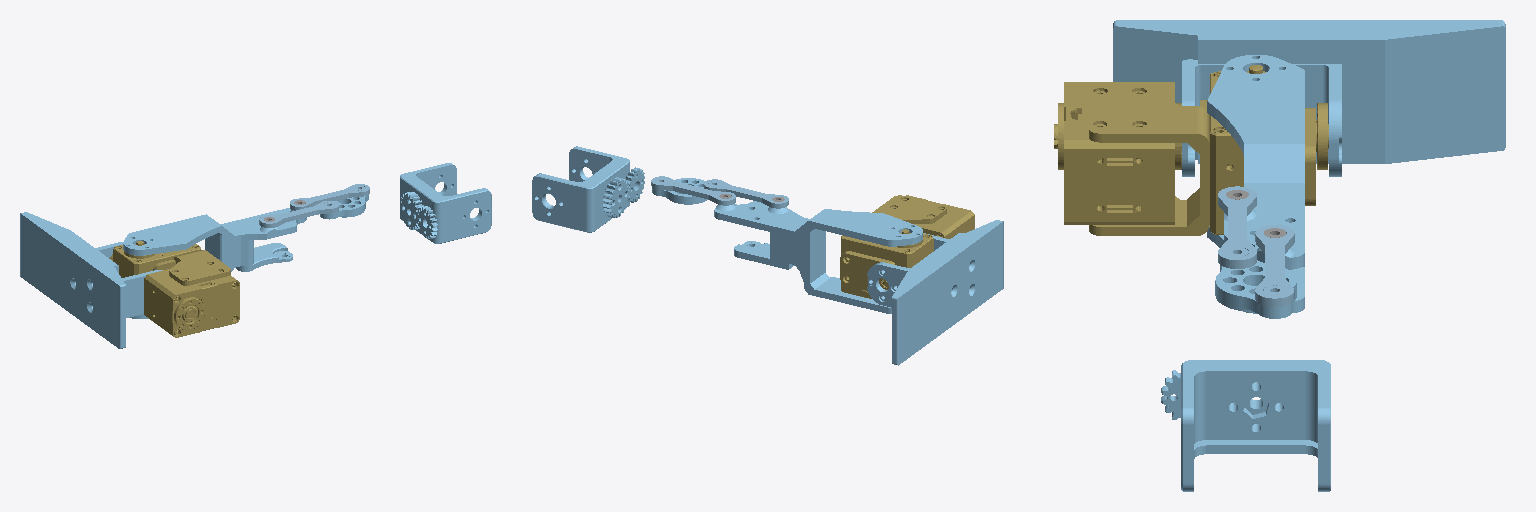
robot.urdf — right_leg_reorder:
<?xml version="1.0" ?><robot name="right_leg_reorder">  
  <link name="2xc430">    
    <visual>      
      <origin xyz="0 0 0" rpy="0 -0 0"/>      
      <geometry>        
        <mesh filename="package:///meshes/right_2xc430_visual.stl"/>        
      </geometry>      
      <material name="2xc430_material">        
        <color rgba="0.51698661238356047321 0.50347815951093488618 0.49050589017722012741 1.0"/>        
      </material>      
    </visual>    
    <collision>      
      <origin xyz="0 0 0" rpy="0 -0 0"/>      
      <geometry>        
        <mesh filename="package:///meshes/right_2xc430_collision.stl"/>        
      </geometry>      
    </collision>    
    <inertial>      
      <origin xyz="-0.0120001511339564923 0.00049588831385626367092 0.01850401924450319896" rpy="0 0 0"/>      
      <mass value="0.11059999999836234164"/>      
      <inertia ixx="2.2818802599017385101e-05" ixy="4.6888548258345894655e-08" ixz="4.6520143289217505514e-08" iyy="3.0871666424467696587e-05" iyz="-5.7477343899723834052e-07" izz="3.0871632082336744173e-05"/>      
    </inertial>    
  </link>  

  <link name="hip_yaw_link">    
    <visual>      
      <origin xyz="0 0 0" rpy="0 -0 0"/>      
      <geometry>        
        <mesh filename="package:///meshes/right_hip_yaw_link_visual.stl"/>        
      </geometry>      
      <material name="hip_yaw_link_material">        
        <color rgba="0.61568627450980395466 0.81176470588235294379 0.92941176470588238168 1.0"/>        
      </material>      
    </visual>    
    <collision>      
      <origin xyz="0 0 0" rpy="0 -0 0"/>      
      <geometry>        
        <mesh filename="package:///meshes/right_hip_yaw_link_collision.stl"/>        
      </geometry>      
    </collision>    
    <inertial>      
      <origin xyz="-6.1483297531456918442e-18 -0.015800610849654273676 -0.019005670096647751116" rpy="0 0 0"/>      
      <mass value="0.013199999999999992989"/>      
      <inertia ixx="5.789461597517412337e-06" ixy="0" ixz="0" iyy="5.0110144042848776317e-06" iyz="1.1826010760651176287e-09" izz="2.7344876354814331659e-06"/>      
    </inertial>    
  </link>  

  <link name="spur_gear_21_teeth">    
    <visual>      
      <origin xyz="0 0 0" rpy="0 -0 0"/>      
      <geometry>        
        <mesh filename="package:///meshes/right_spur_gear_21_teeth_visual.stl"/>        
      </geometry>      
      <material name="spur_gear_21_teeth_material">        
        <color rgba="0.61568627450980395466 0.81176470588235294379 0.9294117647058824927 1.0"/>        
      </material>      
    </visual>    
    <collision>      
      <origin xyz="0 0 0" rpy="0 -0 0"/>      
      <geometry>        
        <mesh filename="package:///meshes/right_spur_gear_21_teeth_collision.stl"/>        
      </geometry>      
    </collision>    
    <inertial>      
      <origin xyz="-4.5505289335411606329e-11 -1.6782167131337769527e-11 -0.00249241020062506086" rpy="0 0 0"/>      
      <mass value="0.0022000000000000001325"/>      
      <inertia ixx="7.0162310059594196881e-08" ixy="-8.6481724095232400255e-40" ixz="5.9015579823613624977e-39" iyy="7.016231005804746178e-08" iyz="-2.0034010754136097062e-38" izz="1.3125544198538289306e-07"/>      
    </inertial>    
  </link>  

  <link name="right_hip_pitch_link">    
    <visual>      
      <origin xyz="0 0 0" rpy="0 -0 0"/>      
      <geometry>        
        <mesh filename="package:///meshes/right_hip_pitch_link_visual.stl"/>        
      </geometry>      
      <material name="right_hip_pitch_link_material">        
        <color rgba="0.81231119922470307326 0.7131158892107314351 0.33680089849959421455 1.0"/>        
      </material>      
    </visual>    
    <collision>      
      <origin xyz="0 0 0" rpy="0 -0 0"/>      
      <geometry>        
        <mesh filename="package:///meshes/right_hip_pitch_link_collision.stl"/>        
      </geometry>      
    </collision>    
    <inertial>      
      <origin xyz="0.010187905578010790844 -0.0056188467228509330134 0.038815928333491456215" rpy="0 0 0"/>      
      <mass value="0.14548965119785964295"/>      
      <inertia ixx="7.094204959486465924e-05" ixy="1.1158758975158450794e-06" ixz="7.6515558781284838565e-06" iyy="8.5157398802913054328e-05" iyz="1.0699337399071725082e-06" izz="4.0945306935231742525e-05"/>      
    </inertial>    
  </link>  

  <link name="spur_gear_18_teeth">    
    <visual>      
      <origin xyz="0 0 0" rpy="0 -0 0"/>      
      <geometry>        
        <mesh filename="package:///meshes/right_spur_gear_18_teeth_visual.stl"/>        
      </geometry>      
      <material name="spur_gear_18_teeth_material">        
        <color rgba="0.61568627450980395466 0.81176470588235294379 0.92941176470588238168 1.0"/>        
      </material>      
    </visual>    
    <collision>      
      <origin xyz="0 0 0" rpy="0 -0 0"/>      
      <geometry>        
        <mesh filename="package:///meshes/right_spur_gear_18_teeth_collision.stl"/>        
      </geometry>      
    </collision>    
    <inertial>      
      <origin xyz="-1.2350917852414122165e-14 -3.7635296765399104409e-13 0.0017500000000010207044" rpy="0 0 0"/>      
      <mass value="0.0011999999999999998949"/>      
      <inertia ixx="2.936789981067607588e-08" ixy="0" ixz="1.8125485473072847388e-36" iyy="2.9367899814783318789e-08" iyz="0" izz="5.6306346207859581581e-08"/>      
    </inertial>    
  </link>  

  <joint name="right_hip_yaw_drive" type="revolute">    
    <origin xyz="0.019200000000000595063 0.00019999999999990858424 -3.9919456629178284857e-14" rpy="-3.1415926535897487071 -3.3583610398554125797e-13 4.6072104872475000824e-13"/>    
    <parent link="right_hip_pitch_link"/>    
    <child link="spur_gear_18_teeth"/>    
    <axis xyz="0 0 1"/>    
    <limit effort="1" velocity="20" lower="-1.8325957145940461324" upper="1.8325957145940461324"/>    
    <joint_properties friction="0.0"/>    
  </joint>  

  <link name="right_calf_link">    
    <visual>      
      <origin xyz="0 0 0" rpy="0 -0 0"/>      
      <geometry>        
        <mesh filename="package:///meshes/right_calf_link_visual.stl"/>        
      </geometry>      
      <material name="right_calf_link_material">        
        <color rgba="0.61568627450980395466 0.81176470588235294379 0.92941176470588238168 1.0"/>        
      </material>      
    </visual>    
    <collision>      
      <origin xyz="0 0 0" rpy="0 -0 0"/>      
      <geometry>        
        <mesh filename="package:///meshes/right_calf_link_collision.stl"/>        
      </geometry>      
    </collision>    
    <inertial>      
      <origin xyz="-0.0043450054394400753482 -0.04075298216475804064 0.008711609351475196536" rpy="0 0 0"/>      
      <mass value="0.030999999999999992839"/>      
      <inertia ixx="3.3069388685437999941e-05" ixy="1.3783307152006436104e-06" ixz="-1.2742534017151547024e-07" iyy="7.7316525337494561228e-06" iyz="7.3356500737960487294e-08" izz="2.8031377754212211627e-05"/>      
    </inertial>    
  </link>  

  <link name="bearing_683">    
    <visual>      
      <origin xyz="0 0 0" rpy="0 -0 0"/>      
      <geometry>        
        <mesh filename="package:///meshes/right_bearing_683_visual.stl"/>        
      </geometry>      
      <material name="bearing_683_material">        
        <color rgba="0.64705882352941179736 0.64705882352941179736 0.64705882352941179736 1.0"/>        
      </material>      
    </visual>    
    <collision>      
      <origin xyz="0 0 0" rpy="0 -0 0"/>      
      <geometry>        
        <mesh filename="package:///meshes/right_bearing_683_collision.stl"/>        
      </geometry>      
    </collision>    
    <inertial>      
      <origin xyz="2.7862896558581290791e-17 -2.4186774283160221397e-19 -0.0015500000000000003792" rpy="0 0 0"/>      
      <mass value="0.00048694686130641793437"/>      
      <inertia ixx="2.1551456503319887385e-09" ixy="4.2598306438204978266e-28" ixz="-7.3234829304002240204e-39" iyy="2.1551456503319874977e-09" iyz="-2.4060933654183729714e-40" izz="3.5303647444715305817e-09"/>      
    </inertial>    
  </link>  

  <joint name="right_knee_front_rev_2" type="revolute">    
    <origin xyz="0.0057402514854766849284 -0.013858192987668827012 0.02619999999999997331" rpy="3.1415926535897904515 1.1270393647317458615e-14 1.5719696003976120213"/>    
    <parent link="right_calf_link"/>    
    <child link="bearing_683"/>    
    <axis xyz="0 0 1"/>    
    <limit effort="1" velocity="20"/>    
    <joint_properties friction="0.0"/>    
  </joint>  

  <link name="bearing_683_2">    
    <visual>      
      <origin xyz="0 0 0" rpy="0 -0 0"/>      
      <geometry>        
        <mesh filename="package:///meshes/right_bearing_683_2_visual.stl"/>        
      </geometry>      
      <material name="bearing_683_2_material">        
        <color rgba="0.64705882352941179736 0.64705882352941179736 0.64705882352941179736 1.0"/>        
      </material>      
    </visual>    
    <collision>      
      <origin xyz="0 0 0" rpy="0 -0 0"/>      
      <geometry>        
        <mesh filename="package:///meshes/right_bearing_683_2_collision.stl"/>        
      </geometry>      
    </collision>    
    <inertial>      
      <origin xyz="1.0732094295237784574e-19 -2.4186774283160235841e-19 -0.0015500000000000003792" rpy="0 0 0"/>      
      <mass value="0.00048694686130641793437"/>      
      <inertia ixx="2.1551456503319887385e-09" ixy="-1.1494962908747497034e-28" ixz="2.265476119271587224e-39" iyy="2.1551456503319891521e-09" iyz="1.489597402795983312e-40" izz="3.5303647444715305817e-09"/>      
    </inertial>    
  </link>  

  <joint name="right_knee_back_rev_2" type="revolute">    
    <origin xyz="-0.0057402514854761627766 0.013858192987670853169 0.026199999999999959432" rpy="3.1415926535897886751 4.04667926947700006e-15 1.5695900538857272544"/>    
    <parent link="right_calf_link"/>    
    <child link="bearing_683_2"/>    
    <axis xyz="0 0 1"/>    
    <limit effort="1" velocity="20"/>    
    <joint_properties friction="0.0"/>    
  </joint>  

  <link name="right_ank_pitch_link">    
    <visual>      
      <origin xyz="0 0 0" rpy="0 -0 0"/>      
      <geometry>        
        <mesh filename="package:///meshes/right_ank_pitch_link_visual.stl"/>        
      </geometry>      
      <material name="right_ank_pitch_link_material">        
        <color rgba="0.70321688500203349825 0.64514870846184457776 0.40484735422826251261 1.0"/>        
      </material>      
    </visual>    
    <collision>      
      <origin xyz="0 0 0" rpy="0 -0 0"/>      
      <geometry>        
        <mesh filename="package:///meshes/right_ank_pitch_link_collision.stl"/>        
      </geometry>      
    </collision>    
    <inertial>      
      <origin xyz="-0.01777024188954268516 0.012301334508572285553 0.018814514831173675957" rpy="0 0 0"/>      
      <mass value="0.1767637669506791076"/>      
      <inertia ixx="4.7283381546857748841e-05" ixy="1.3380598207244262923e-06" ixz="6.1532628607417077641e-07" iyy="0.00010706462535917217807" iyz="-5.1080086246370357937e-08" izz="0.00012185522398303814907"/>      
    </inertial>    
  </link>  

  <link name="ank_roll_link">    
    <visual>      
      <origin xyz="0 0 0" rpy="0 -0 0"/>      
      <geometry>        
        <mesh filename="package:///meshes/right_ank_roll_link_visual.stl"/>        
      </geometry>      
      <material name="ank_roll_link_material">        
        <color rgba="0.61568627450980384364 0.81176470588235283277 0.92941176470588227065 1.0"/>        
      </material>      
    </visual>    
    <collision>      
      <origin xyz="0 0 0" rpy="0 -0 0"/>      
      <geometry>        
        <mesh filename="package:///meshes/right_ank_roll_link_collision.stl"/>        
      </geometry>      
    </collision>    
    <inertial>      
      <origin xyz="-0.02700306651682201492 -2.005733932976729254e-12 0.033764011359896435593" rpy="0 0 0"/>      
      <mass value="0.042600000000000012856"/>      
      <inertia ixx="3.7284397827464680426e-05" ixy="-5.517453075479433163e-16" ixz="2.392918376808064086e-06" iyy="3.7589276943350409207e-05" iyz="5.0934854972587995505e-12" izz="1.0090430906786784418e-05"/>      
    </inertial>    
  </link>  

  <joint name="right_ank_roll" type="revolute">    
    <origin xyz="-0.022749999999990291877 -2.9976021664879226591e-15 0.018999999999999558908" rpy="1.570796326794811959 9.5680781580564777459e-14 1.5707963267948310548"/>    
    <parent link="right_ank_pitch_link"/>    
    <child link="ank_roll_link"/>    
    <axis xyz="0 0 1"/>    
    <limit effort="1" velocity="20" lower="-1.570796326794896558" upper="1.570796326794896558"/>    
    <joint_properties friction="0.0"/>    
  </joint>  

  <joint name="right_ank_pitch" type="revolute">    
    <origin xyz="7.9282998314407210272e-17 -0.10000000000000278111 0.027750000000000038525" rpy="-3.1415926535897851224 8.8042386588788376547e-15 3.1415926535897575889"/>    
    <parent link="right_calf_link"/>    
    <child link="right_ank_pitch_link"/>    
    <axis xyz="0 0 1"/>    
    <limit effort="1" velocity="20" lower="-0.785398163397448279" upper="1.7453292519943295336"/>    
    <joint_properties friction="0.0"/>    
  </joint>  

  <joint name="right_knee" type="revolute">    
    <origin xyz="4.491391864188864284e-17 -0.0087500000000000043021 0.085950000000000248424" rpy="-1.570796326794896558 -5.5569291725623875623e-17 -4.1442543841061995334e-15"/>    
    <parent link="right_hip_pitch_link"/>    
    <child link="right_calf_link"/>    
    <axis xyz="0 0 1"/>    
    <limit effort="1" velocity="20" lower="0" upper="2.0943951023931952626"/>    
    <joint_properties friction="0.0"/>    
  </joint>  

  <link name="xm430_plate">    
    <visual>      
      <origin xyz="0 0 0" rpy="0 -0 0"/>      
      <geometry>        
        <mesh filename="package:///meshes/right_xm430_plate_visual.stl"/>        
      </geometry>      
      <material name="xm430_plate_material">        
        <color rgba="0.61568627450980395466 0.81176470588235294379 0.92941176470588227065 1.0"/>        
      </material>      
    </visual>    
    <collision>      
      <origin xyz="0 0 0" rpy="0 -0 0"/>      
      <geometry>        
        <mesh filename="package:///meshes/right_xm430_plate_collision.stl"/>        
      </geometry>      
    </collision>    
    <inertial>      
      <origin xyz="-9.7261304206861773257e-19 -2.9625680639399983914e-18 0.0025278513919583817798" rpy="0 0 0"/>      
      <mass value="0.0026999999999999997093"/>      
      <inertia ixx="2.4635091298412534083e-07" ixy="5.8739562556303546978e-08" ixz="1.6488528924539488391e-38" iyy="1.2887178787151819394e-07" iyz="-4.7671642829899821838e-37" izz="3.6467998413810316538e-07"/>      
    </inertial>    
  </link>  

  <link name="knee_rod">    
    <visual>      
      <origin xyz="0 0 0" rpy="0 -0 0"/>      
      <geometry>        
        <mesh filename="package:///meshes/right_knee_rod_visual.stl"/>        
      </geometry>      
      <material name="knee_rod_material">        
        <color rgba="0.62051618944235198416 0.78640765248647581664 0.88594253031295011613 1.0"/>        
      </material>      
    </visual>    
    <collision>      
      <origin xyz="0 0 0" rpy="0 -0 0"/>      
      <geometry>        
        <mesh filename="package:///meshes/right_knee_rod_collision.stl"/>        
      </geometry>      
    </collision>    
    <inertial>      
      <origin xyz="0.017534288777882725552 4.1145083530046676085e-05 -0.0015987301647632601396" rpy="0 0 0"/>      
      <mass value="0.003162946861306418795"/>      
      <inertia ixx="2.422520350903731932e-08" ixy="-4.1523452929273176848e-10" ixz="4.9178286424076687208e-10" iyy="8.1758850361951706548e-07" iyz="1.1539930294877956541e-12" izz="8.3704922659328214469e-07"/>      
    </inertial>    
  </link>  

  <joint name="right_knee_front_rev_1" type="revolute">    
    <origin xyz="0.0057402514854763518615 -0.013858192987669298857 0.0050000000000000044409" rpy="3.1415926535897922278 -2.0205656421608262662e-14 -1.5696230531921844253"/>    
    <parent link="xm430_plate"/>    
    <child link="knee_rod"/>    
    <axis xyz="0 0 1"/>    
    <limit effort="1" velocity="20"/>    
    <joint_properties friction="0.0"/>    
  </joint>  

  <link name="knee_rod_2">    
    <visual>      
      <origin xyz="0 0 0" rpy="0 -0 0"/>      
      <geometry>        
        <mesh filename="package:///meshes/right_knee_rod_2_visual.stl"/>        
      </geometry>      
      <material name="knee_rod_2_material">        
        <color rgba="0.62051618944235198416 0.78640765248647581664 0.88594253031295011613 1.0"/>        
      </material>      
    </visual>    
    <collision>      
      <origin xyz="0 0 0" rpy="0 -0 0"/>      
      <geometry>        
        <mesh filename="package:///meshes/right_knee_rod_2_collision.stl"/>        
      </geometry>      
    </collision>    
    <inertial>      
      <origin xyz="0.017534287401028952197 -4.230232304207548694e-05 -0.0015987301647633269264" rpy="0 0 0"/>      
      <mass value="0.003162946861306418795"/>      
      <inertia ixx="2.4225259089665888754e-08" ixy="4.2691331041381926747e-10" ixz="4.9178282562450544184e-10" iyy="8.1758847582921140495e-07" iyz="-1.1864500382085723636e-12" izz="8.3704925438359458149e-07"/>      
    </inertial>    
  </link>  

  <joint name="right_knee_back_rev_1" type="revolute">    
    <origin xyz="-0.0057402514854763492594 0.013858192987669271101 0.004999999999999997502" rpy="3.1415926535897922278 -1.388398626480973237e-14 -1.5720025997040691923"/>    
    <parent link="xm430_plate"/>    
    <child link="knee_rod_2"/>    
    <axis xyz="0 0 1"/>    
    <limit effort="1" velocity="20"/>    
    <joint_properties friction="0.0"/>    
  </joint>  

  <joint name="right_knee_act" type="revolute">    
    <origin xyz="-3.4410939121567419255e-17 0.01245000000000000967 0.044500000000000088096" rpy="-1.5707963267949061059 2.6644771186035749771e-15 -1.0609561628018721089e-15"/>    
    <parent link="right_hip_pitch_link"/>    
    <child link="xm430_plate"/>    
    <axis xyz="0 0 1"/>    
    <limit effort="1" velocity="20" lower="0" upper="2.0943951023931952626"/>    
    <joint_properties friction="0.0"/>    
  </joint>  

  <joint name="right_hip_yaw_driven" type="revolute">    
    <origin xyz="-1.204861457474966044e-19 -6.9388939039072283776e-18 -0.0050000000000000113798" rpy="3.141592653589793116 -9.4994925477120343739e-16 4.2299644928409957938e-30"/>    
    <parent link="spur_gear_21_teeth"/>    
    <child link="right_hip_pitch_link"/>    
    <axis xyz="0 0 1"/>    
    <limit effort="1" velocity="20" lower="-1.570796326794896558" upper="1.570796326794896558"/>    
    <joint_properties friction="0.0"/>    
  </joint>  

  <joint name="right_hip_yaw_fixed" type="fixed">    
    <origin xyz="-6.9388939039072283776e-18 -0.027999999999999979766 -0.018999999999999999528" rpy="-1.570796326794896558 1.5707963267948956698 0"/>    
    <parent link="hip_yaw_link"/>    
    <child link="spur_gear_21_teeth"/>    
    <axis xyz="0 0 1"/>    
    <limit effort="1" velocity="20"/>    
    <joint_properties friction="0.0"/>    
  </joint>  

  <joint name="right_hip_roll" type="revolute">    
    <origin xyz="-0.024000000716140008905 0.019000000152447762275 0.019000000152447762275" rpy="-1.570796326794896558 -1.5707963267948898967 0"/>    
    <parent link="2xc430"/>    
    <child link="hip_yaw_link"/>    
    <axis xyz="0 0 1"/>    
    <limit effort="1" velocity="20" lower="-0.785398163397448279" upper="0.785398163397448279"/>    
    <joint_properties friction="0.0"/>    
  </joint>  


</robot>

--- Render facts (derived) ---
Views: 3 orthographic renders of the robot side by side, from view 1: azimuth 30°, elevation 25°; view 2: azimuth 150°, elevation 25°; view 3: azimuth 270°, elevation 25°.
Robot: right_leg_reorder — 13 links, 12 joints (11 revolute, 1 fixed); root link 2xc430; default pose: every joint at zero.
Links seen in each view (by area): view 1: ank_roll_link, right_ank_pitch_link, right_calf_link, hip_yaw_link, knee_rod, knee_rod_2, spur_gear_21_teeth, xm430_plate; view 2: ank_roll_link, right_calf_link, right_ank_pitch_link, hip_yaw_link, knee_rod_2, knee_rod, spur_gear_21_teeth, xm430_plate; view 3: ank_roll_link, right_ank_pitch_link, hip_yaw_link, right_calf_link, xm430_plate, knee_rod_2, knee_rod, spur_gear_18_teeth.
Link boxes in pixels (x1=…): ank_roll_link: x1=20, y1=212, x2=162, y2=348; right_ank_pitch_link: x1=109, y1=241, x2=239, y2=337; right_calf_link: x1=123, y1=208, x2=306, y2=318; hip_yaw_link: x1=400, y1=163, x2=491, y2=243; knee_rod: x1=259, y1=201, x2=338, y2=227; knee_rod_2: x1=290, y1=184, x2=369, y2=210; spur_gear_21_teeth: x1=400, y1=192, x2=423, y2=229; xm430_plate: x1=320, y1=195, x2=368, y2=219; ank_roll_link: x1=867, y1=220, x2=1003, y2=365; right_calf_link: x1=714, y1=201, x2=922, y2=313; right_ank_pitch_link: x1=840, y1=195, x2=974, y2=298; hip_yaw_link: x1=532, y1=146, x2=629, y2=232; knee_rod_2: x1=651, y1=176, x2=735, y2=205; knee_rod: x1=704, y1=179, x2=788, y2=208; spur_gear_21_teeth: x1=603, y1=177, x2=629, y2=217; xm430_plate: x1=652, y1=178, x2=707, y2=204; ank_roll_link: x1=1113, y1=20, x2=1505, y2=176; right_ank_pitch_link: x1=1054, y1=65, x2=1328, y2=235; hip_yaw_link: x1=1181, y1=360, x2=1330, y2=491; right_calf_link: x1=1207, y1=55, x2=1304, y2=313; xm430_plate: x1=1215, y1=260, x2=1296, y2=318; knee_rod_2: x1=1255, y1=225, x2=1294, y2=306; knee_rod: x1=1218, y1=186, x2=1256, y2=268; spur_gear_18_teeth: x1=1161, y1=370, x2=1180, y2=419.
Bounding box of the posed robot: 0.2689 × 0.138 × 0.0464 m (x, y, z).
11 mesh visuals loaded from 13 distinct referenced files (11 binary STL); not drawn: 2 (reference not matched to a file when rendering).